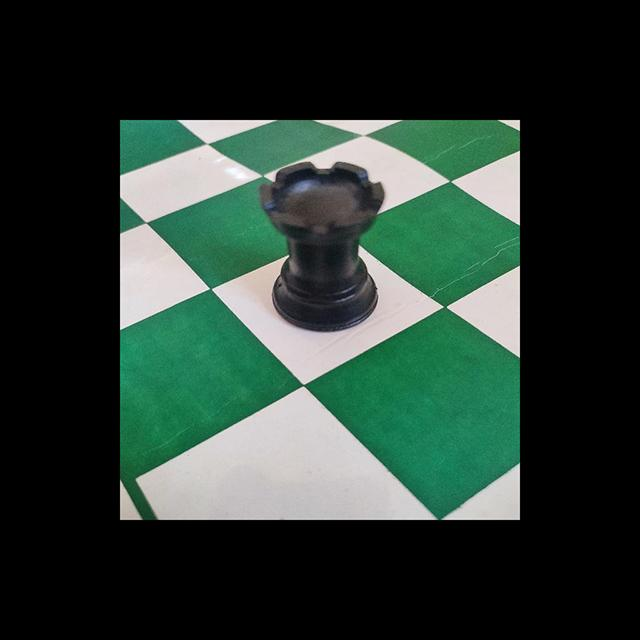black-rook: (260, 159, 386, 333)
